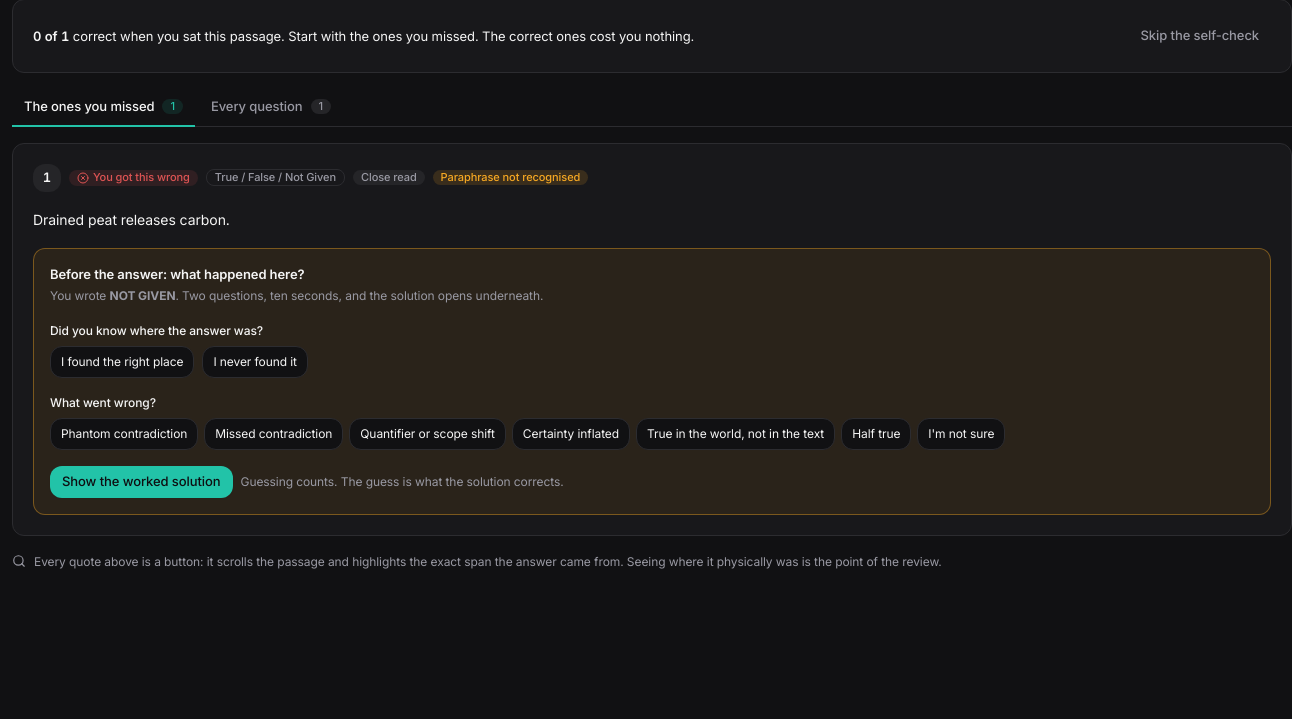
the solution card › makes a wrong answer diagnose itself before it reveals anything
This screenshot has width=1292, height=719.
Expected: the text "A stated mechanism supports" is not shown
Expected: the text "Did you know where the answer was?" is shown, [50,322,263,340]
Click the button "Show the worked solution" at (141, 482), box [50,466,232,498]
(page scrolled)
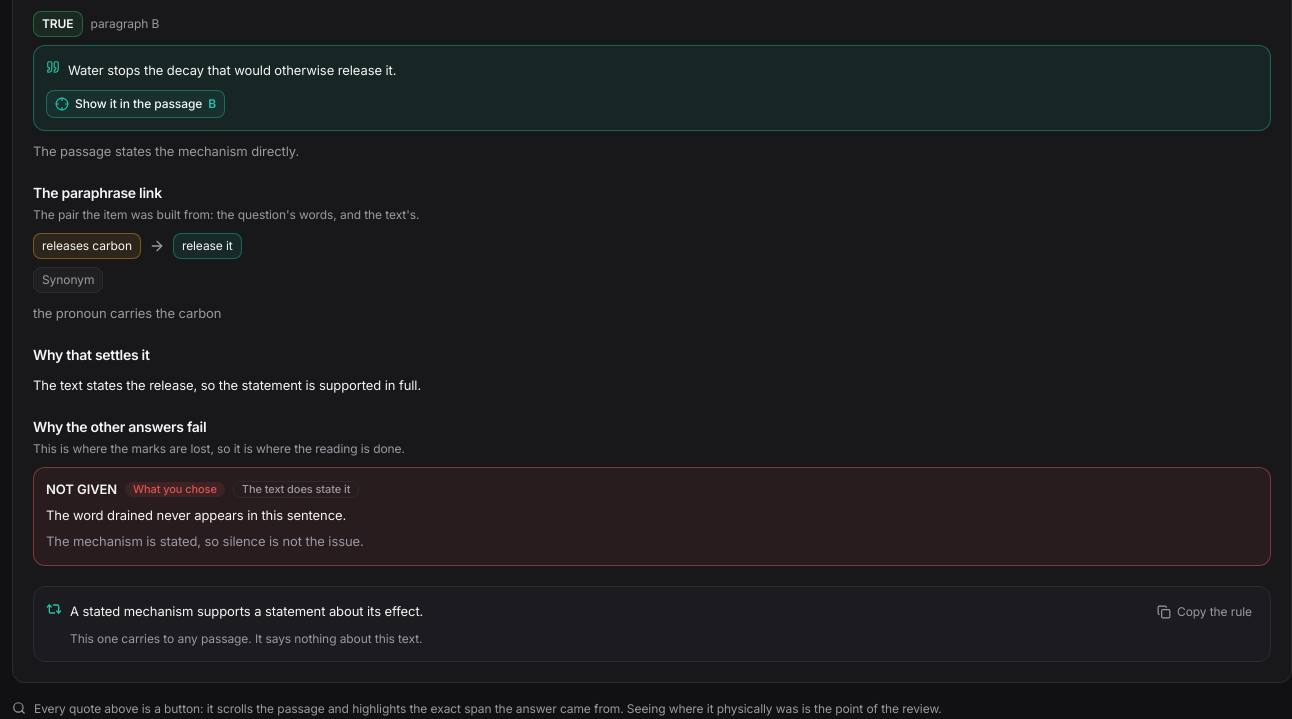
Expected: the text "A stated mechanism supports a statement about its effect." is shown, [70,599,423,623]
Expected: the text "Water stops the decay that would otherwise release it." is shown, [68,58,396,82]
Expected: the text "releases carbon" is shown, [33,232,141,258]
